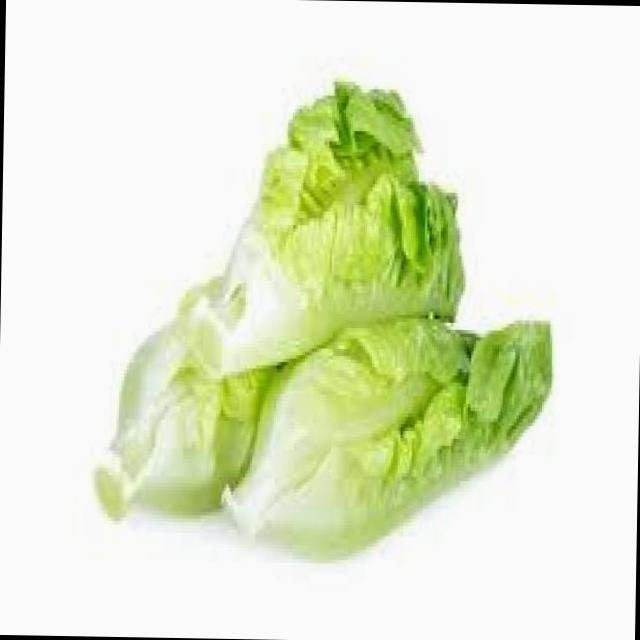Lettuce-Ready-to-Harvest: (184, 81, 466, 374), (222, 319, 552, 564), (96, 322, 281, 520)
